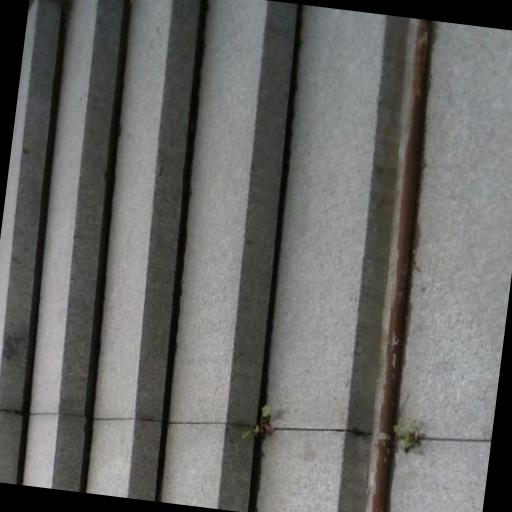stairs: (0, 0, 429, 511)
